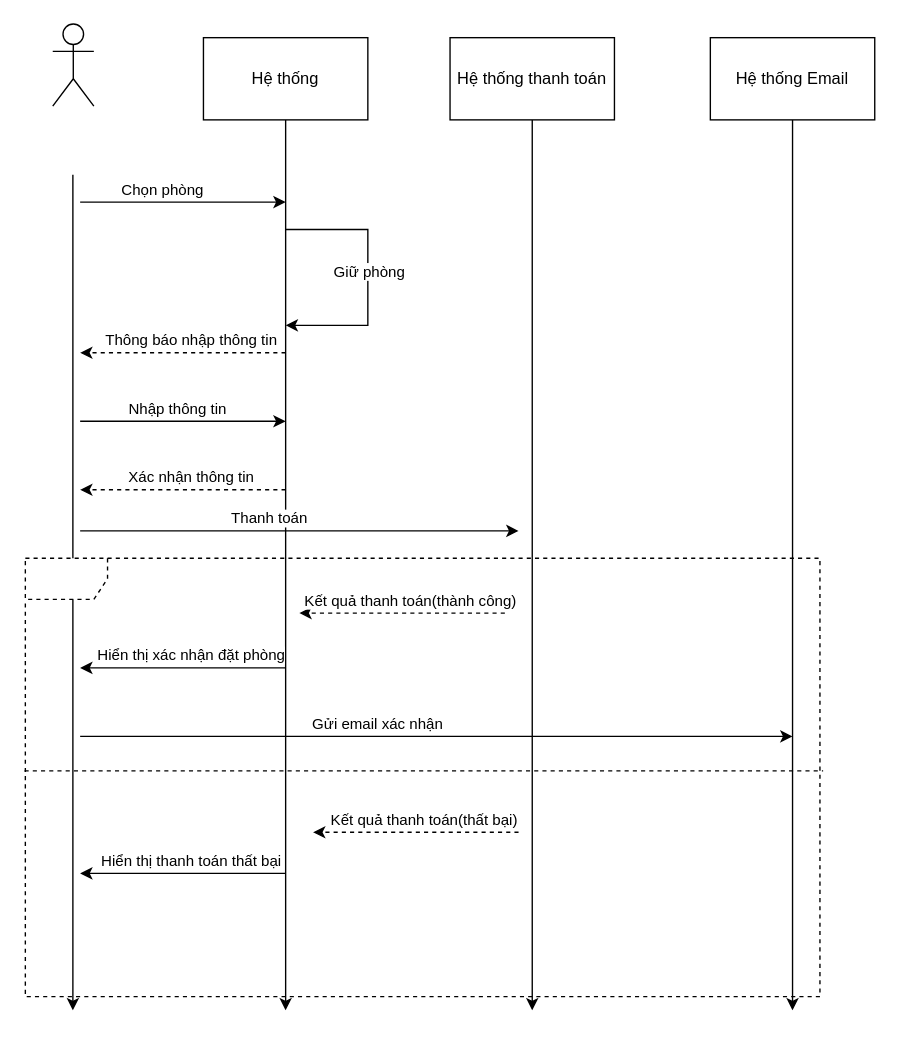
This 899x1045 diagram has some shape labels left out. The centre of each missing label's shape, as x and y in pixels:
"alt" goes at (x=422, y=777).
"Khách hàng" goes at (x=72, y=64).
